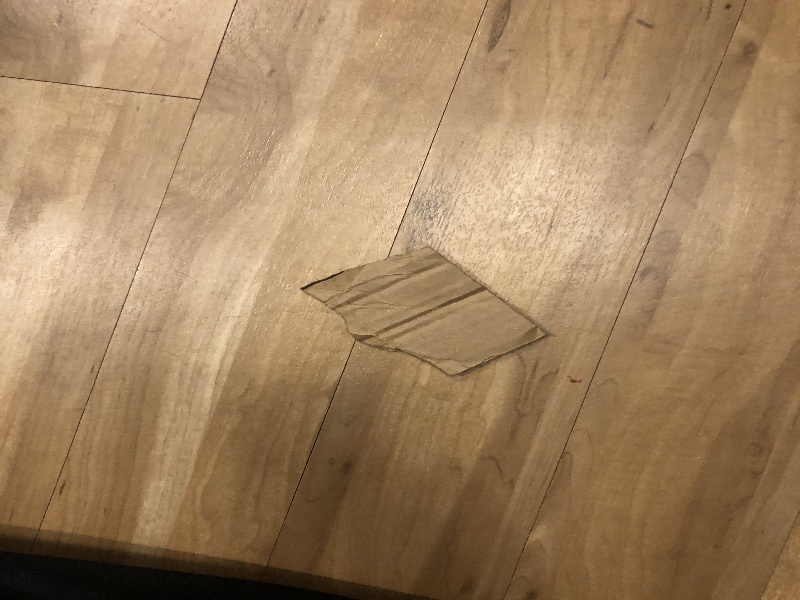cardboard: (297, 240, 558, 385)
